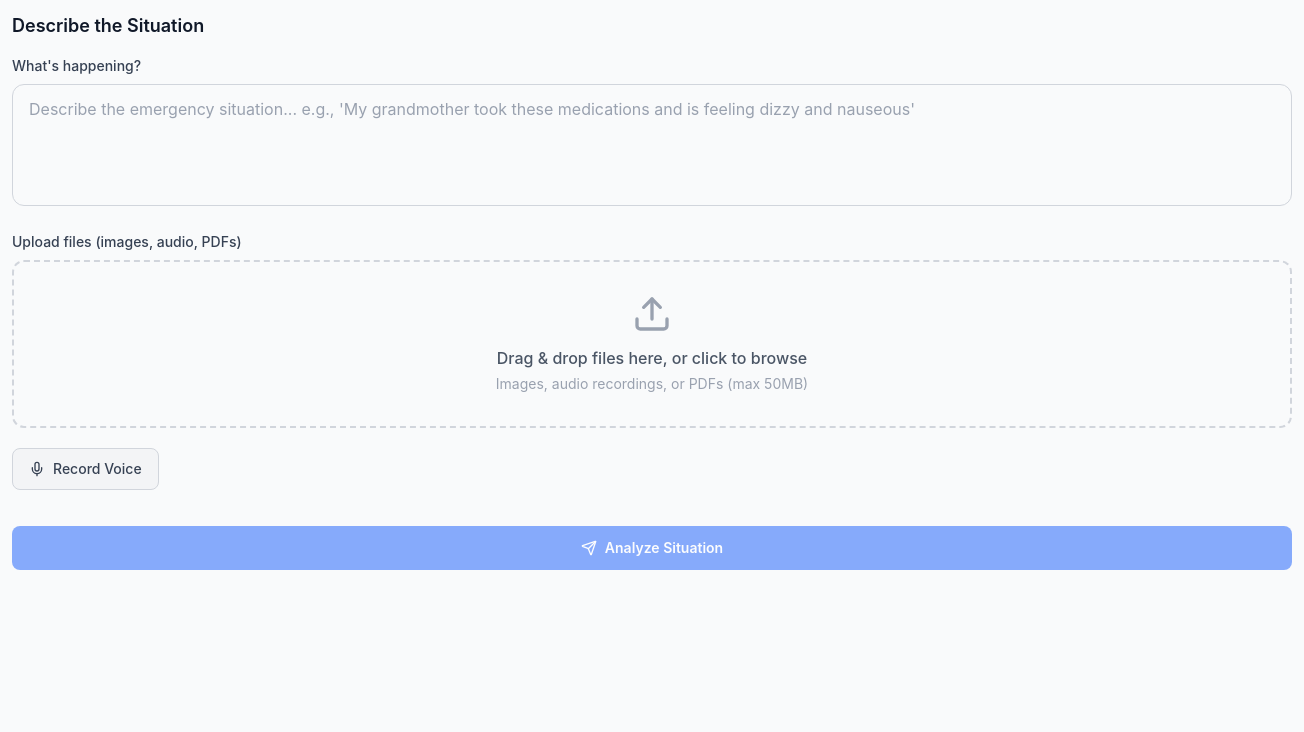
Test: InputPanel › submit button enables after typing text
The width and height of the screenshot is (1304, 732).
Type "headache" into the text box labelled "What's happening?". click: [652, 145]
box: [12, 84, 1292, 206]
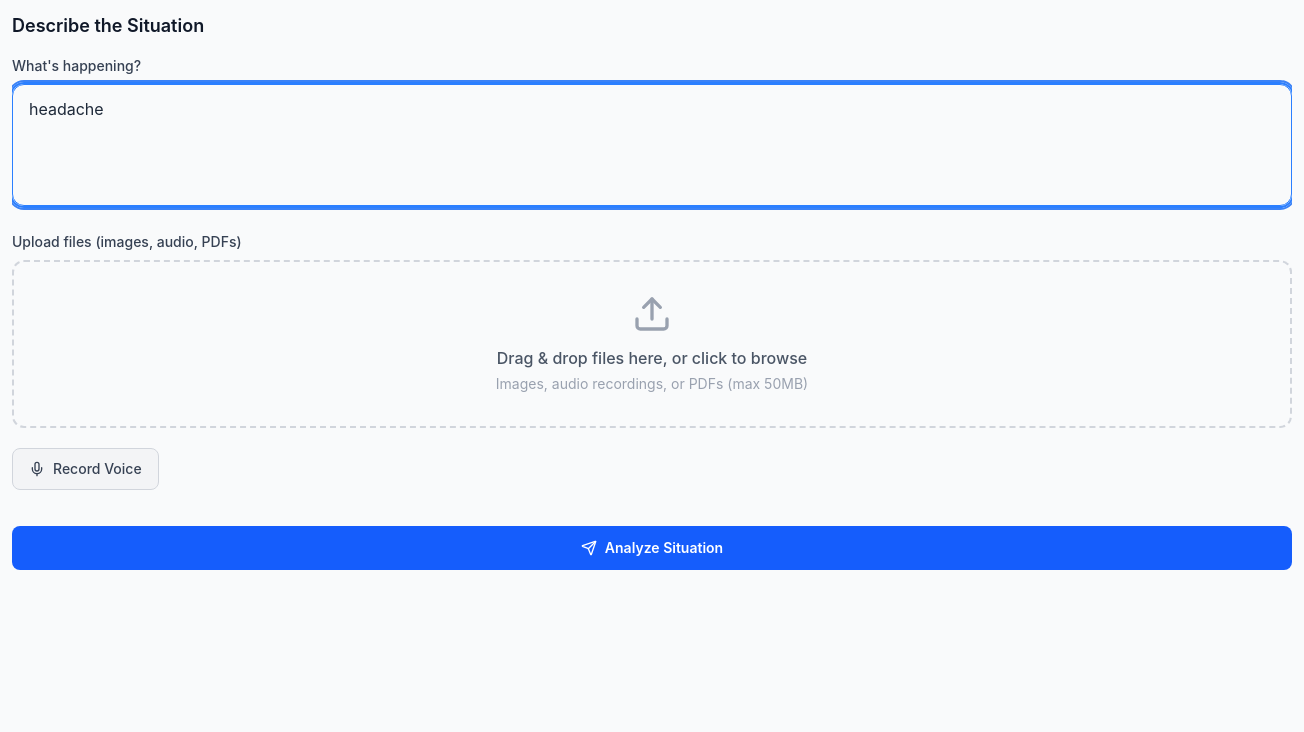
Expected: the button "Analyze Situation" is enabled, [12, 526, 1292, 570]
